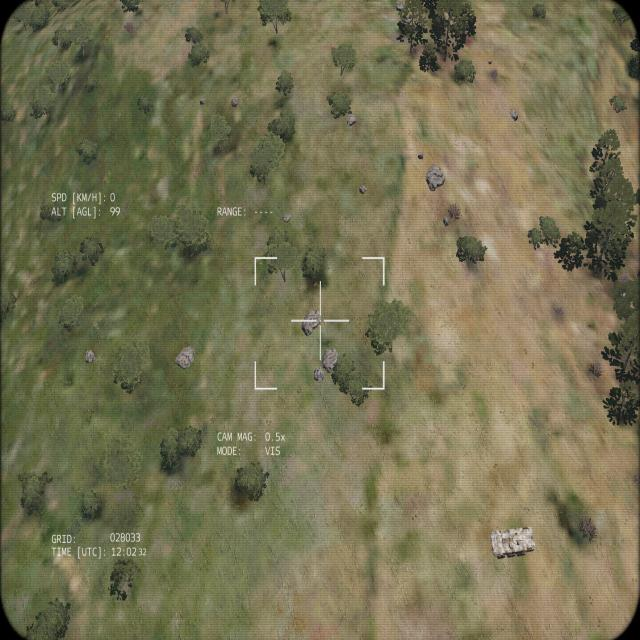apc: (489, 526, 535, 560)
